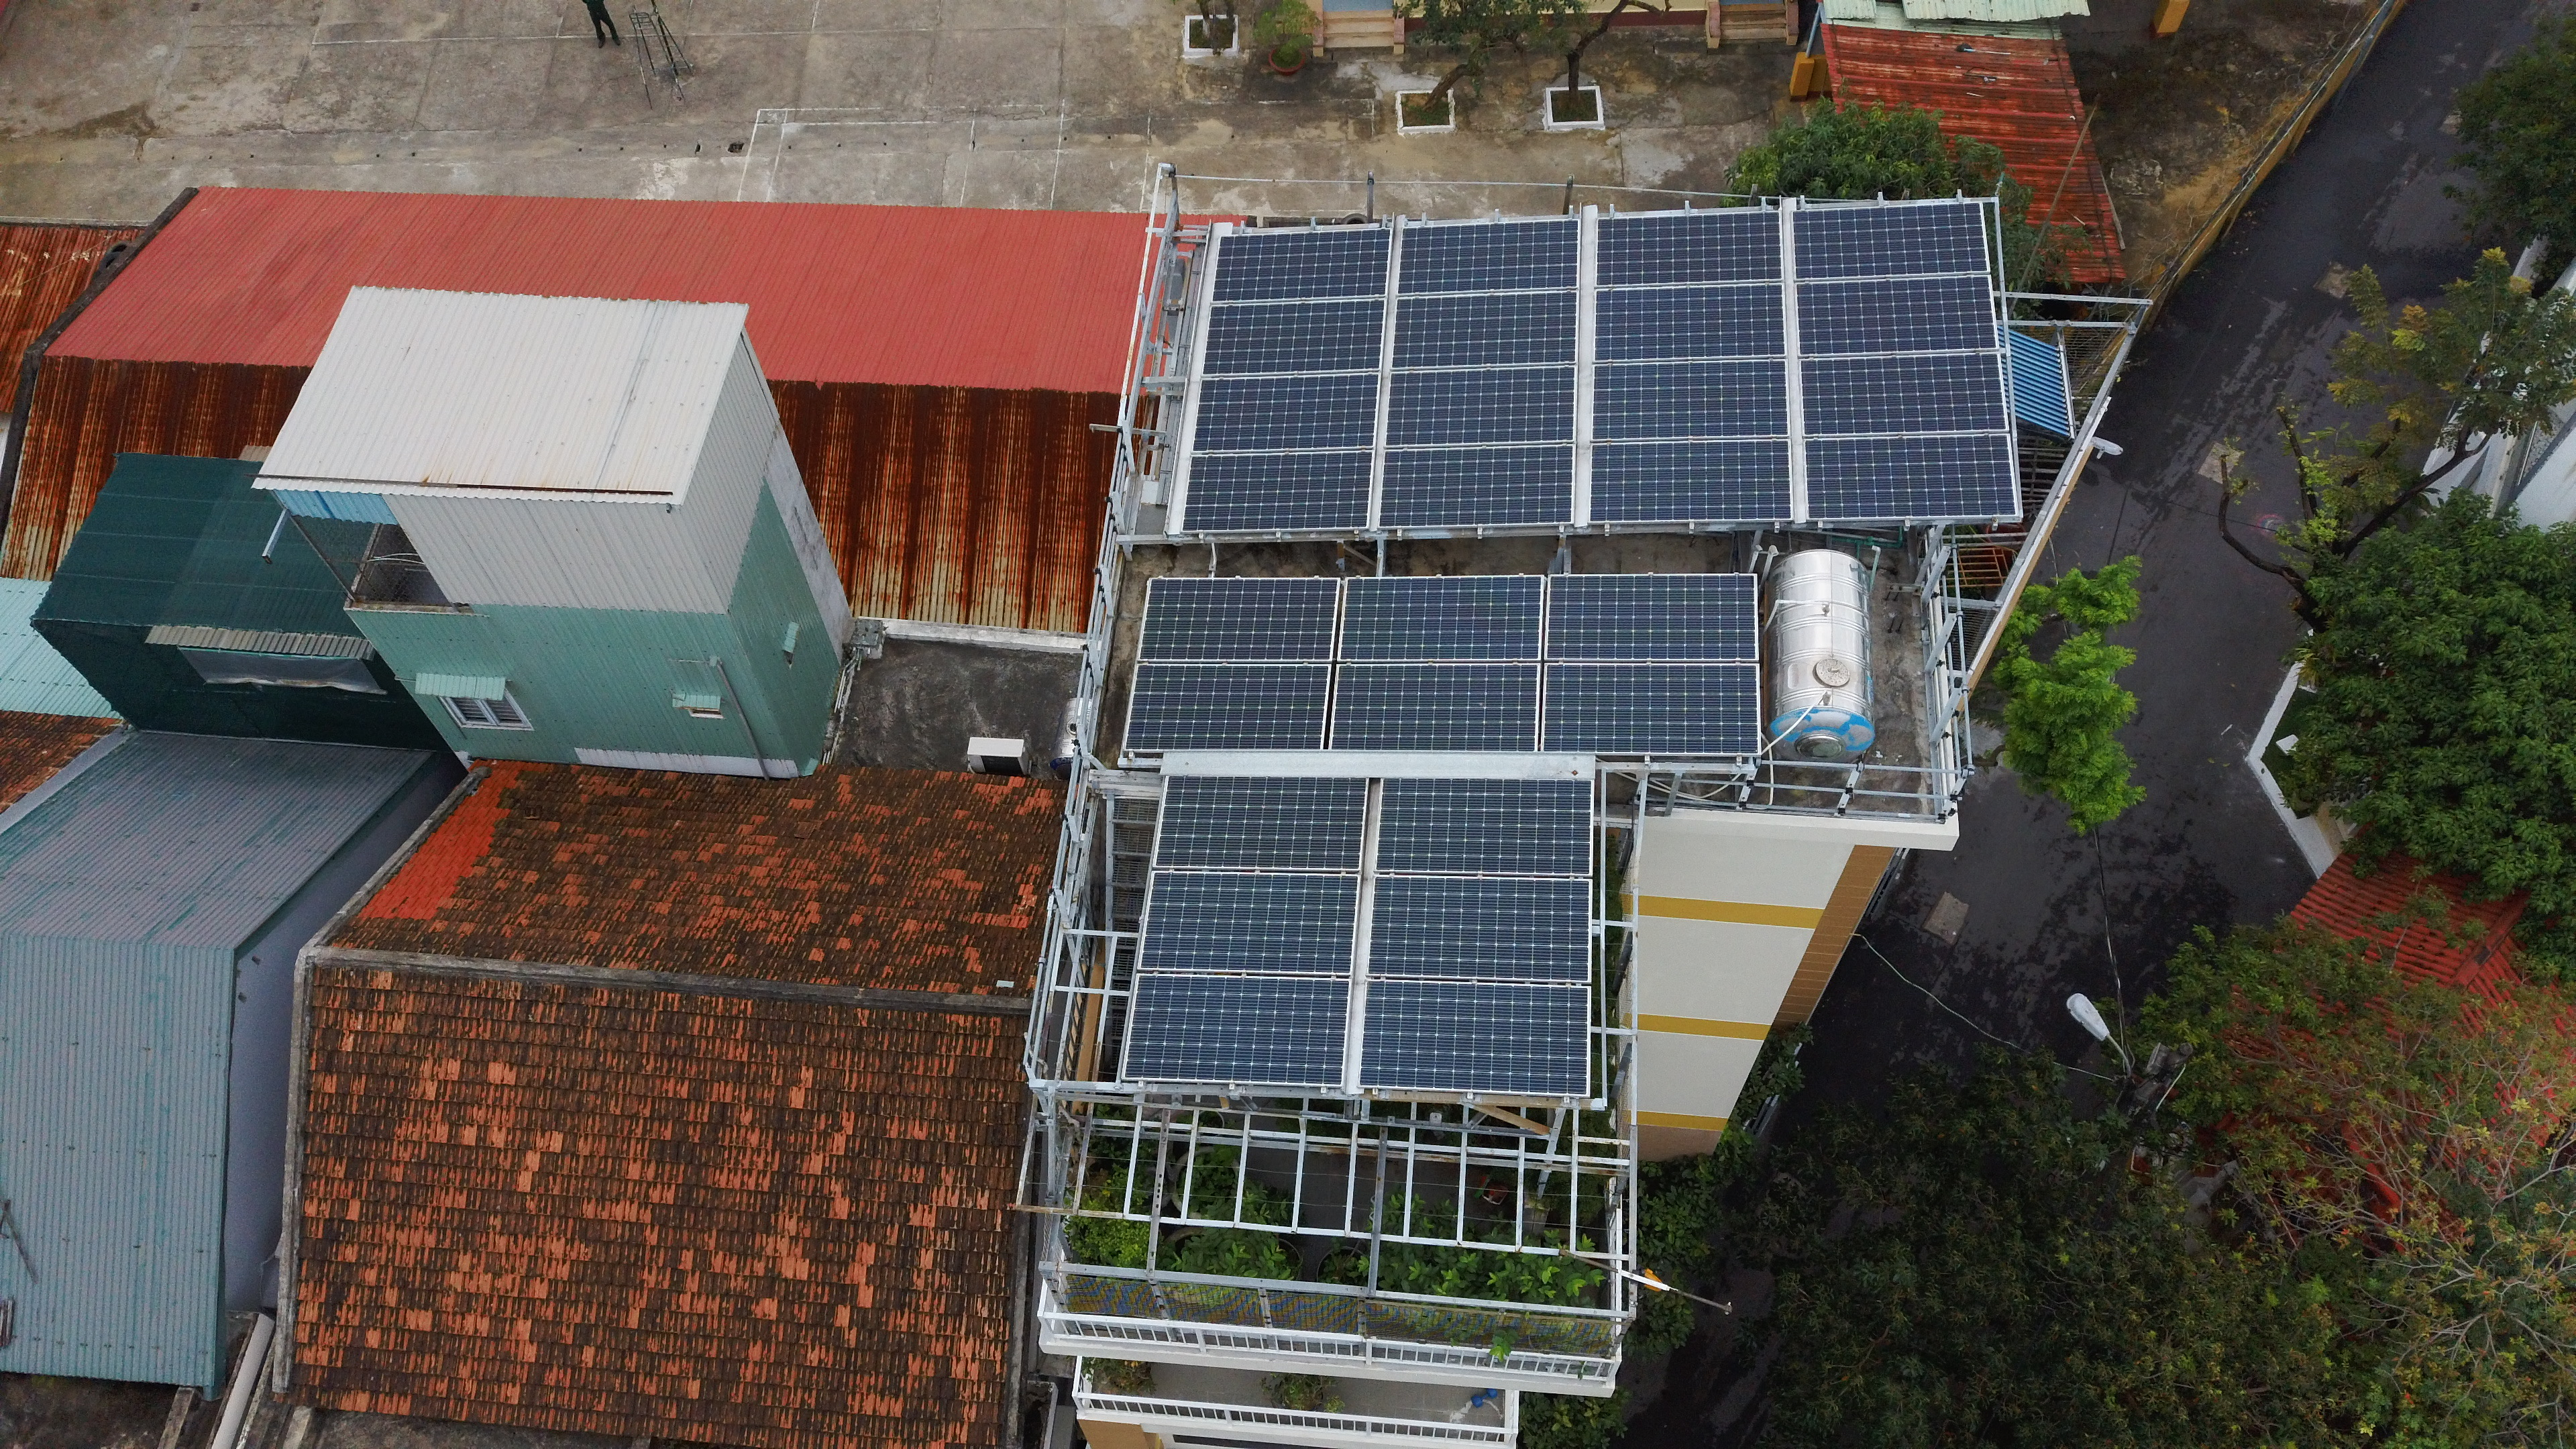solar: (1352, 978, 1601, 1108), (1112, 968, 1361, 1097), (1350, 861, 1600, 991), (1126, 853, 1376, 983), (1135, 755, 1385, 884), (1371, 765, 1609, 884), (1534, 654, 1774, 765), (1311, 651, 1552, 761), (1114, 653, 1344, 759), (1323, 571, 1553, 674), (1538, 568, 1768, 672), (1796, 428, 2029, 530), (1792, 260, 2015, 364), (1792, 343, 2023, 444), (1129, 570, 1348, 672), (1789, 187, 2000, 290), (1583, 198, 1786, 293), (1587, 280, 1789, 376), (1587, 354, 1789, 449), (1589, 437, 1791, 532), (1375, 439, 1577, 534), (1375, 356, 1578, 451), (1381, 280, 1584, 376), (1391, 208, 1594, 303), (1201, 215, 1403, 311), (1194, 290, 1397, 385), (1185, 367, 1387, 462), (1175, 444, 1377, 539)
